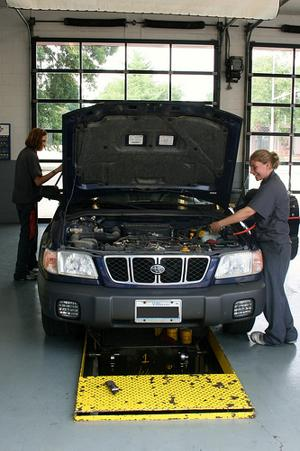person: (210, 149, 299, 348)
